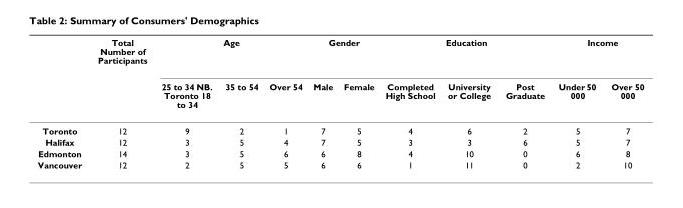table: (36, 36, 643, 169)
table column: (89, 36, 153, 169), (153, 36, 217, 169), (379, 36, 440, 169), (440, 36, 497, 169), (36, 36, 89, 169), (497, 36, 550, 169), (550, 36, 602, 169), (217, 36, 263, 169), (263, 36, 307, 169), (337, 36, 379, 169), (602, 36, 643, 169), (307, 36, 337, 169)
table column header: (36, 36, 643, 117)
table row: (36, 72, 643, 117), (36, 36, 643, 72), (36, 117, 643, 136), (36, 136, 643, 147), (36, 147, 643, 158), (36, 158, 643, 169)
table spanning cell: (379, 36, 550, 72), (153, 36, 307, 72), (89, 36, 153, 117), (550, 36, 643, 72), (307, 36, 379, 72)
